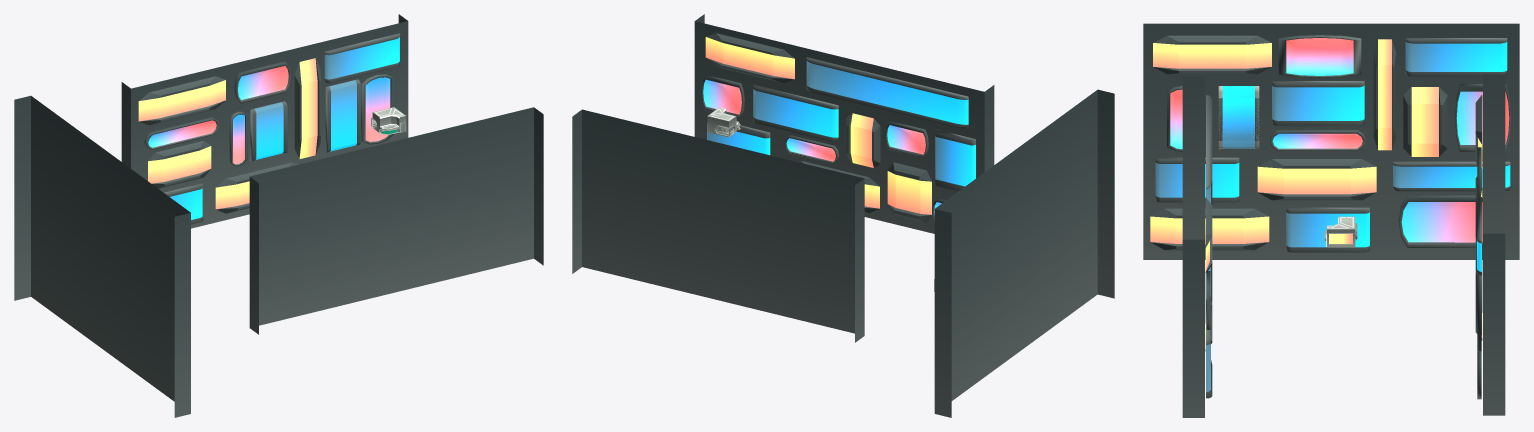
Rendered from Cyberpunk_Scene0.1.glb.
3 renders of one model, left to right at view 1: azimuth 30°, elevation 25°; view 2: azimuth 150°, elevation 25°; view 3: azimuth 270°, elevation 25°, orthographic. The views are drawn at different scales.
Visible parts, largest first — view 1: Level 4.007, Level 4.020, Level 4, Window 2.003, Window 3.003, Window 2.002, Window 3.001, Window 2, Window 3, Window 1.005, Window 1.006, Window 2.004 (+4 smaller); view 2: Level 4, Level 4.020, Level 4.007, Window 3.008, Window 3.009, Window 2.008, Window 2.005, Window 3.005, Window 2.007, Window 1.008, Window 1.013, Window 3.007 (+3 smaller); view 3: Level 4.020, Level 4, Level 4.007, Window 2.014, Window 2.013, Window 3.011, Window 1.018, Window 3.013, Window 2.015, Window 1.019, Window 3.015, Window 2.010 (+15 smaller).
Boxes of the visible parts, bbox=[...] form: Level 4.007: bbox=[249, 107, 543, 334]; Level 4.020: bbox=[14, 95, 190, 417]; Level 4: bbox=[121, 14, 408, 228]; Window 2.003: bbox=[138, 76, 225, 125]; Window 3.003: bbox=[324, 33, 400, 83]; Window 2.002: bbox=[294, 58, 320, 159]; Window 3.001: bbox=[325, 79, 360, 152]; Window 2: bbox=[148, 141, 211, 188]; Window 3: bbox=[250, 101, 287, 161]; Window 1.005: bbox=[234, 61, 290, 103]; Window 1.006: bbox=[361, 74, 393, 144]; Window 2.004: bbox=[215, 162, 297, 213]; Level 4: bbox=[572, 109, 864, 342]; Level 4.020: bbox=[934, 89, 1114, 417]; Level 4.007: bbox=[694, 14, 994, 233]; Window 3.008: bbox=[806, 57, 968, 128]; Window 3.009: bbox=[753, 84, 838, 141]; Window 2.008: bbox=[705, 33, 794, 82]; Window 2.005: bbox=[887, 162, 931, 223]; Window 3.005: bbox=[934, 129, 975, 191]; Window 2.007: bbox=[846, 113, 880, 167]; Window 1.008: bbox=[701, 75, 744, 118]; Window 1.013: bbox=[885, 121, 928, 157]; Window 3.007: bbox=[706, 118, 770, 155]; Level 4.020: bbox=[1143, 23, 1519, 259]; Level 4: bbox=[1483, 74, 1505, 415]; Level 4.007: bbox=[1182, 76, 1204, 417]; Window 2.014: bbox=[1257, 159, 1376, 200]; Window 2.013: bbox=[1153, 35, 1271, 74]; Window 3.011: bbox=[1272, 81, 1364, 125]; Window 1.018: bbox=[1398, 195, 1482, 247]; Window 3.013: bbox=[1405, 38, 1507, 76]; Window 2.015: bbox=[1150, 208, 1269, 250]; Window 1.019: bbox=[1278, 35, 1361, 77]; Window 3.015: bbox=[1286, 207, 1369, 252]; Window 2.010: bbox=[1403, 87, 1447, 156].
Size of the model in its own units: 97.75 by 48.71 by 70.26.
Materials: 1 (1 with a texture image).
